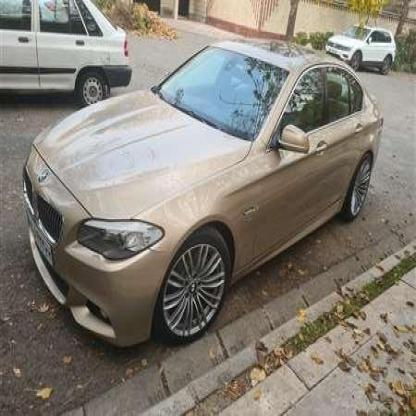Car: (24, 47, 384, 343), (0, 0, 134, 101), (326, 27, 393, 70)
